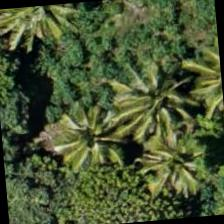Kelapa_Sawit: (42, 84, 140, 182), (125, 113, 224, 210), (99, 56, 196, 154)
